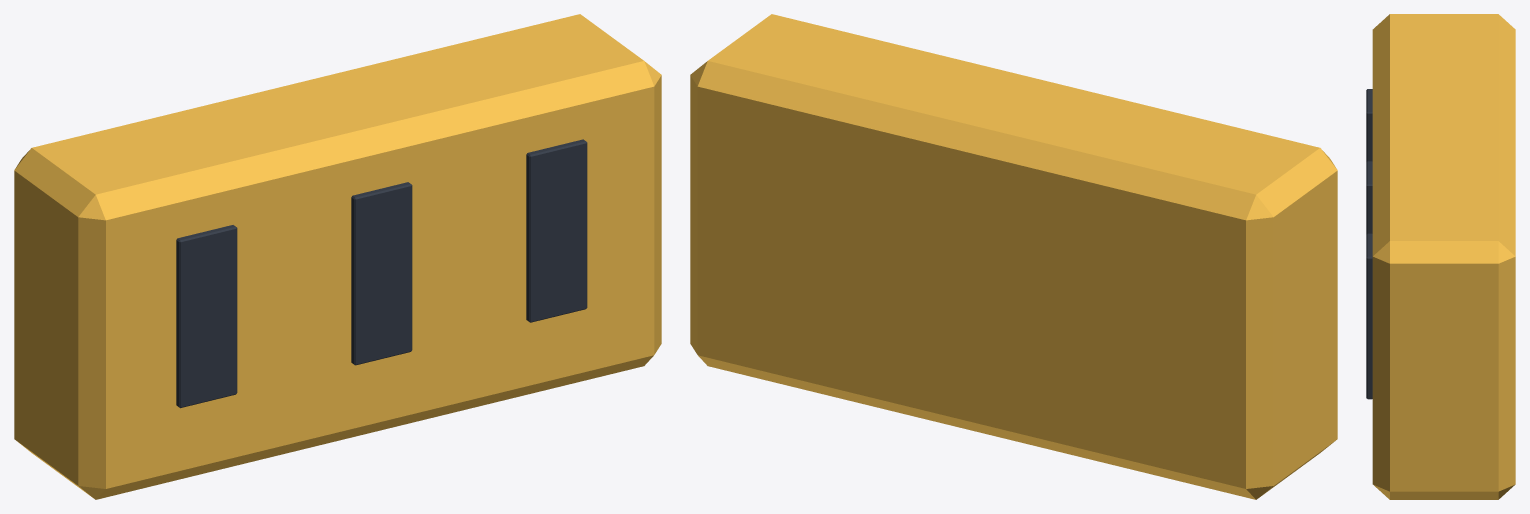
Rendered from street_022_seed11.glb.
The picture shows the model from 3 angles, left to right: view 1: azimuth 30°, elevation 25°; view 2: azimuth 150°, elevation 25°; view 3: azimuth 270°, elevation 25°; orthographic projection. The views are drawn at different scales.
Visible parts, largest first — view 1: street_022_seed11; view 2: street_022_seed11; view 3: street_022_seed11.
Boxes of the visible parts, x1,y1,x2,y2 form: street_022_seed11: (14, 14, 661, 499); street_022_seed11: (690, 14, 1337, 499); street_022_seed11: (1366, 14, 1515, 499).
Size of the model in its own units: 2 by 1 by 0.5225.
